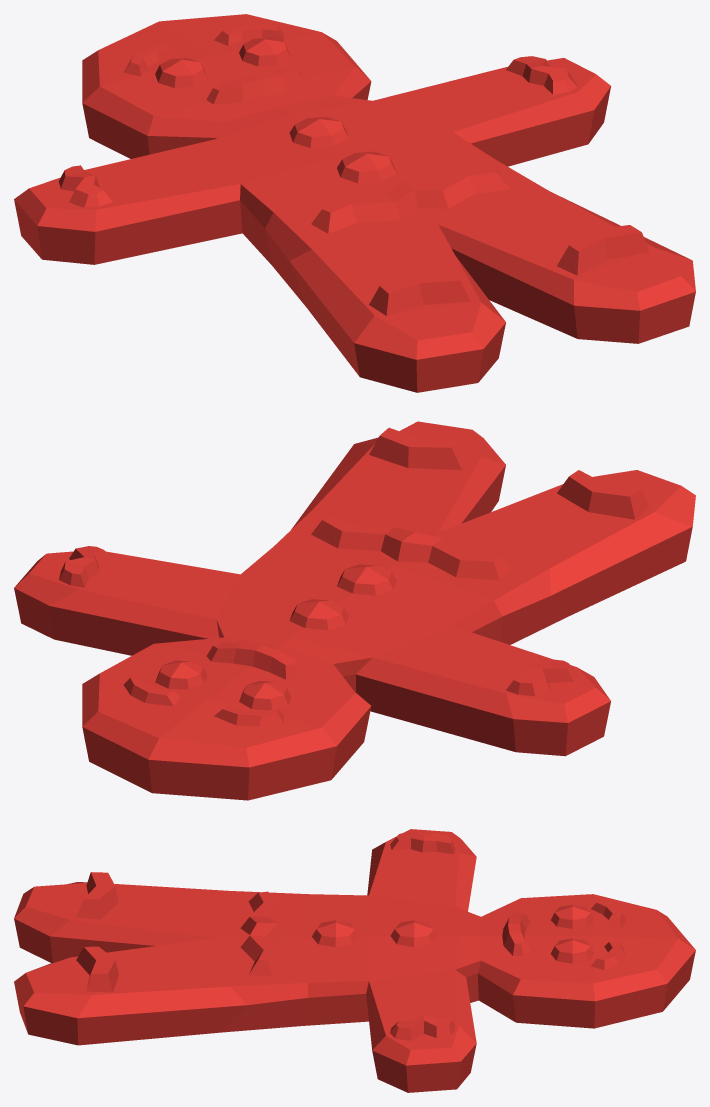
File: SM_Gingerbread_Man.fbx
3 renders of one model, top to bottom at view 1: azimuth 30°, elevation 25°; view 2: azimuth 150°, elevation 25°; view 3: azimuth 270°, elevation 25°, orthographic. The views are drawn at different scales.
Visible parts, largest first — view 1: gingerbread-man; view 2: gingerbread-man; view 3: gingerbread-man.
Part boxes in pixels (box(x1,y1,x2,y2)): gingerbread-man: box(14, 14, 695, 392); gingerbread-man: box(14, 421, 695, 800); gingerbread-man: box(14, 829, 695, 1092).
Size of the model in its own units: 0.1364 by 0.0158 by 0.1701.
